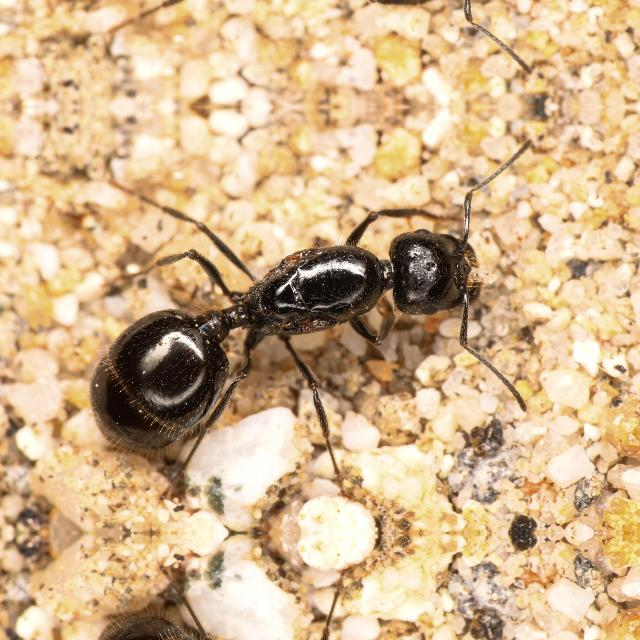Messor: (71, 178, 518, 476)
